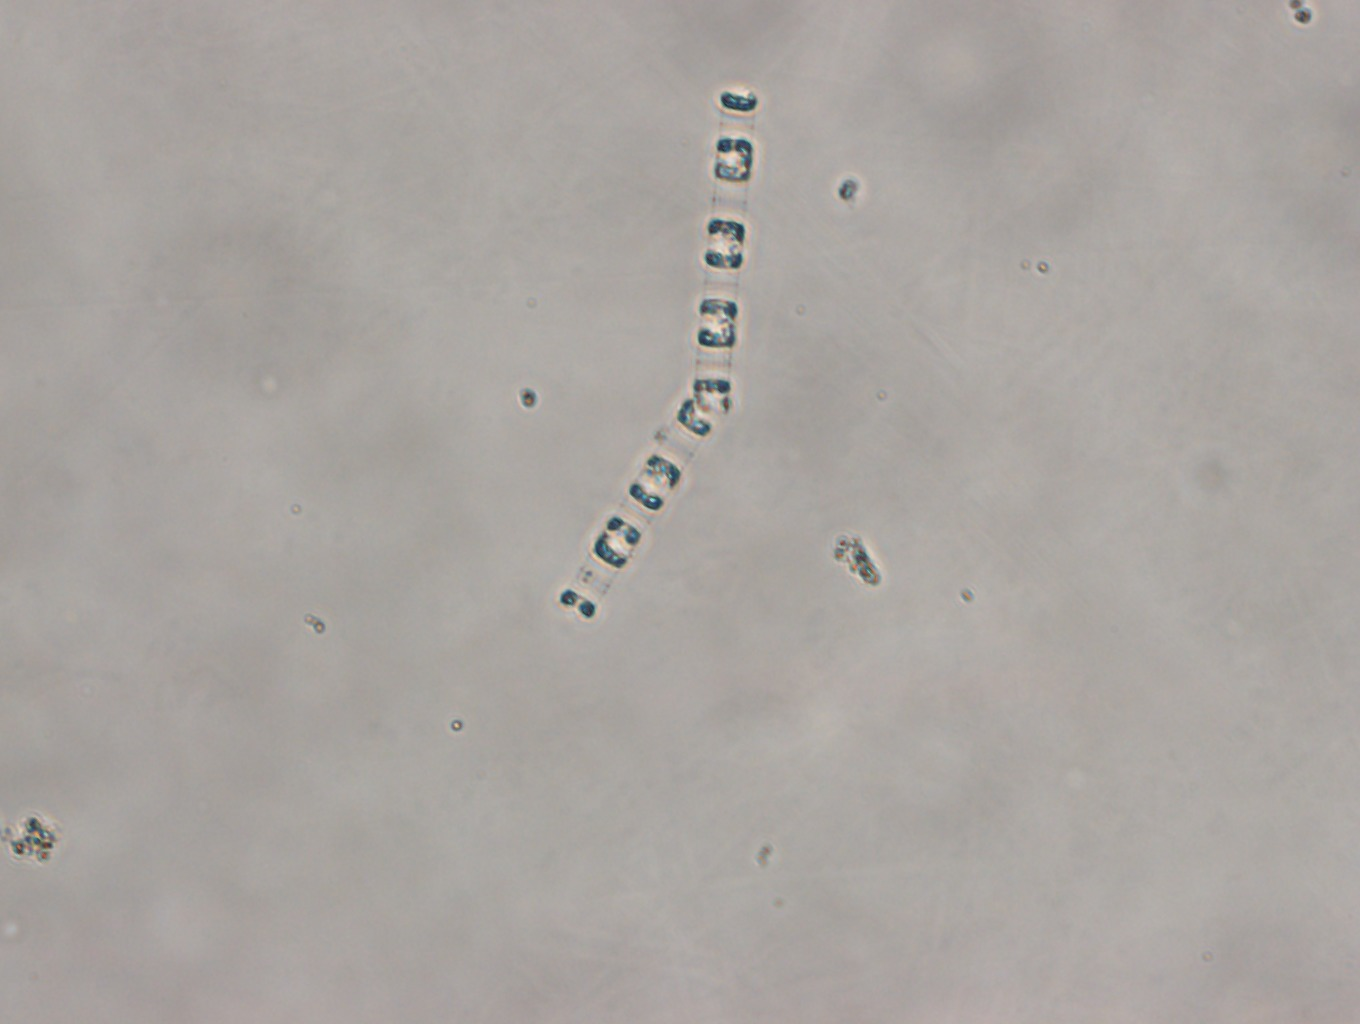skeletonema: (559, 86, 756, 622)
